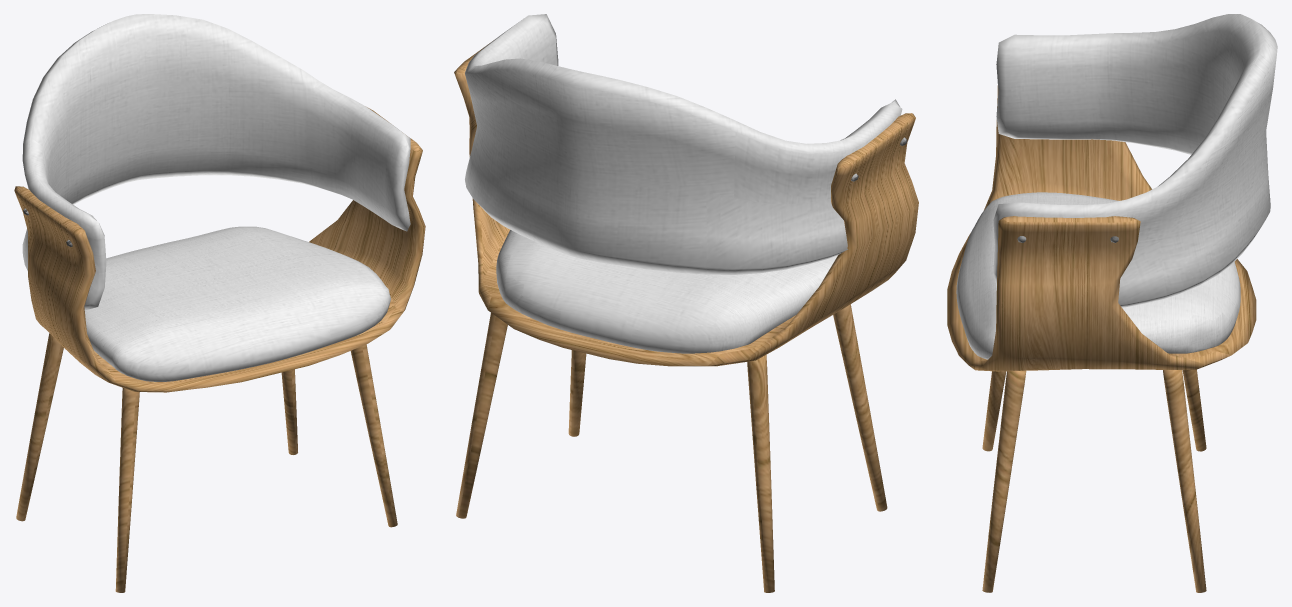
File: Chair.fbx
The picture shows the model from 3 angles, left to right: view 1: azimuth 30°, elevation 25°; view 2: azimuth 150°, elevation 25°; view 3: azimuth 270°, elevation 25°; orthographic projection. The views are drawn at different scales.
Visible parts, largest first — view 1: Backrest, Seat, Chair; view 2: Backrest, Chair, Seat; view 3: Backrest, Chair, Seat.
Boxes of the visible parts, <box> form: Backrest: <box>22,14,410,310</box>; Seat: <box>84,226,390,381</box>; Chair: <box>14,107,425,592</box>; Backrest: <box>465,14,902,274</box>; Chair: <box>454,40,918,592</box>; Seat: <box>496,230,837,353</box>; Backrest: <box>993,14,1277,307</box>; Chair: <box>947,85,1256,592</box>; Seat: <box>956,192,1240,359</box>.
Bounding box in the file's own units: 123 × 149 × 93.
4 materials, 4 textured.
